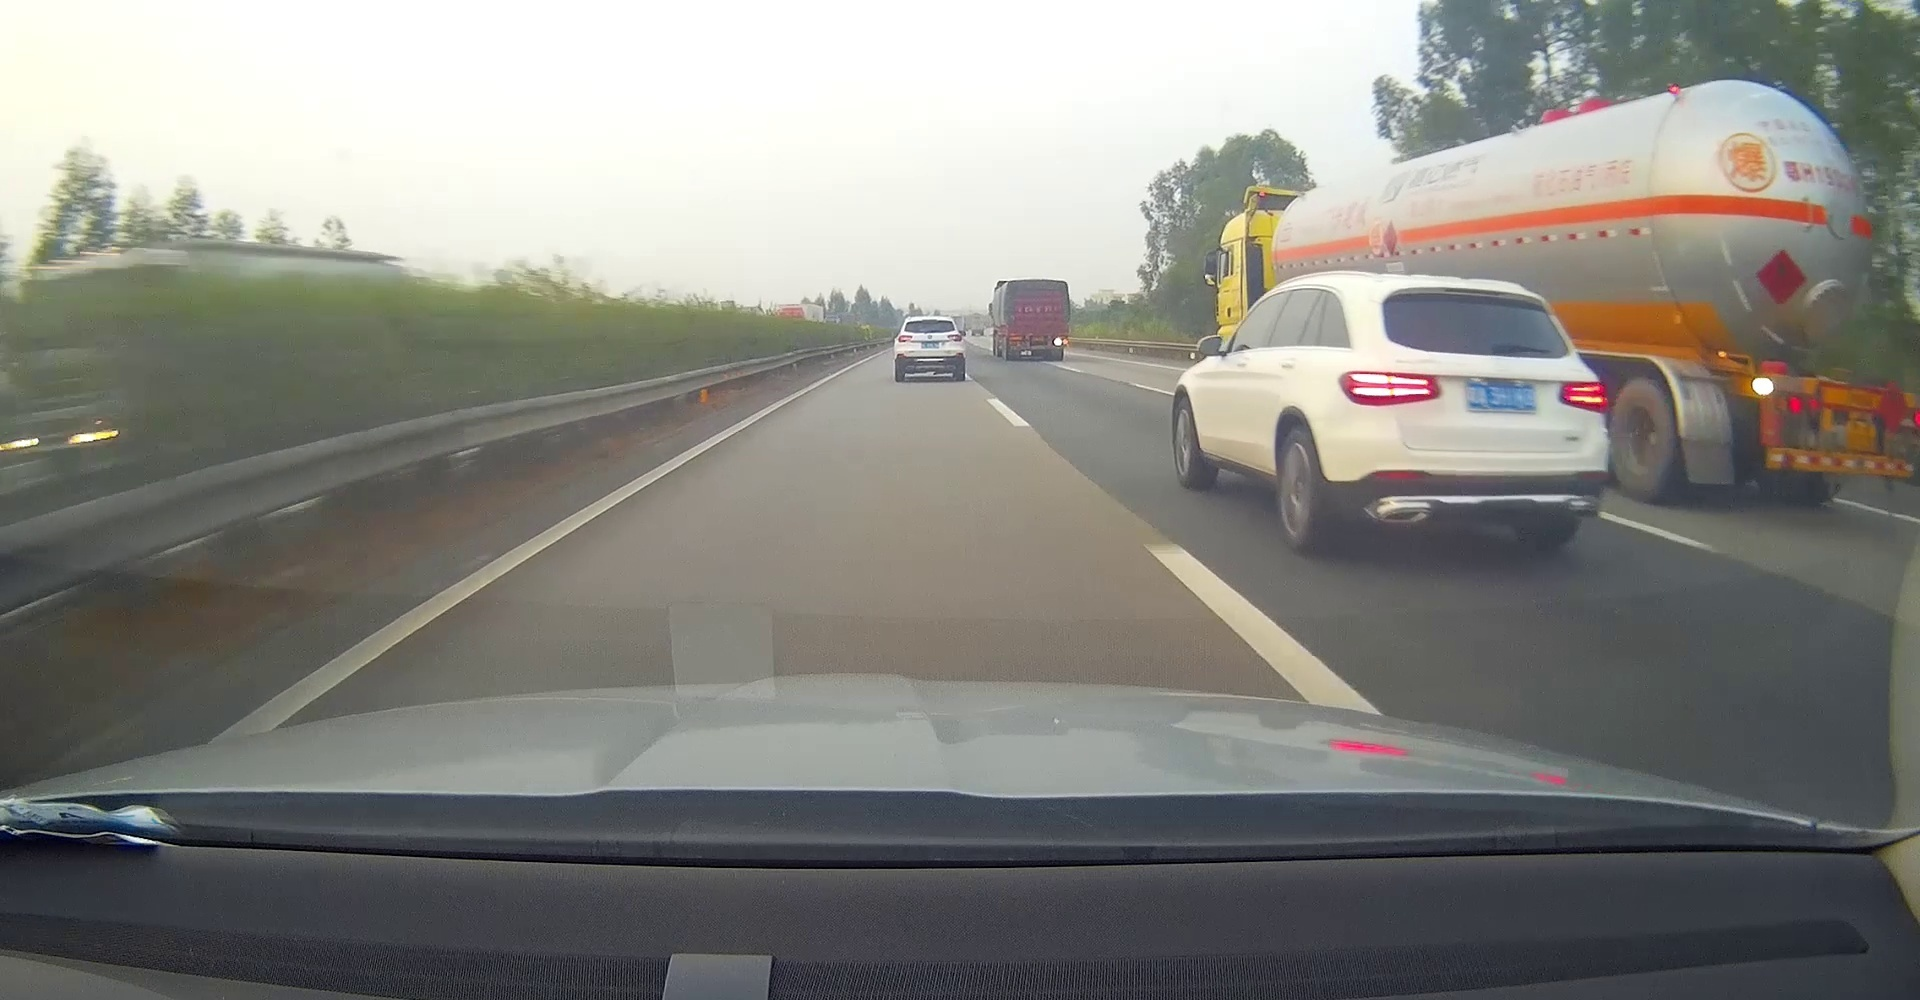L_light: (1338, 371, 1441, 405), (1779, 395, 1818, 415), (898, 335, 913, 341), (1008, 340, 1022, 345)
R_light: (1559, 379, 1610, 412), (1903, 410, 1920, 426), (947, 334, 963, 341), (1053, 339, 1067, 345)
T_light: (1444, 287, 1503, 298), (1846, 387, 1874, 404), (922, 319, 938, 324), (1031, 284, 1043, 289)
day-brake: (1335, 273, 1611, 552)
day-no: (1745, 373, 1920, 514), (894, 316, 965, 382)
day-right: (1004, 279, 1069, 360)
